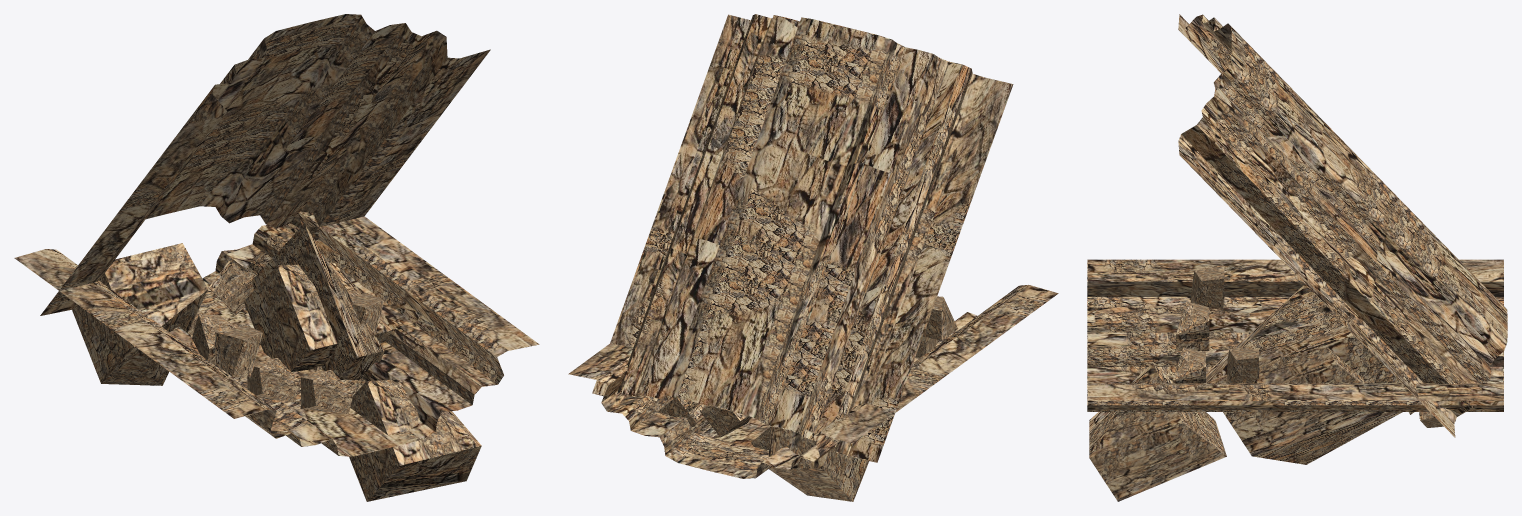
File: glbroca1.glb
The picture shows the model from 3 angles, left to right: view 1: azimuth 30°, elevation 25°; view 2: azimuth 150°, elevation 25°; view 3: azimuth 270°, elevation 25°; orthographic projection. The views are drawn at different scales.
Visible parts, largest first — view 1: Plane.001, Plane, Cube.010, Cube.011, Cube.009, Cube.012, Cube.004, Cube.006, Cube.003, Cube.002, Cube, Cube.005; view 2: Plane.001, Plane, Cube.010, Cube.004, Cube.002, Cube.007; view 3: Plane.001, Plane, Cube.012, Cube.011, Cube.009, Cube.003, Cube.004, Cube.005, Cube.006.
Part boxes in pixels (<box>): Plane.001: <box>40,14,490,315</box>; Plane: <box>14,211,539,456</box>; Cube.010: <box>72,243,208,385</box>; Cube.011: <box>349,379,481,501</box>; Cube.009: <box>244,263,391,371</box>; Cube.012: <box>252,223,384,379</box>; Cube.004: <box>215,325,262,377</box>; Cube.006: <box>301,370,353,413</box>; Cube.003: <box>247,357,299,402</box>; Cube.002: <box>208,260,254,315</box>; Cube: <box>192,314,235,364</box>; Cube.005: <box>351,293,384,334</box>; Plane.001: <box>592,14,1013,462</box>; Plane: <box>568,284,1058,478</box>; Cube.010: <box>768,426,869,501</box>; Cube.004: <box>923,296,957,340</box>; Cube.002: <box>701,405,751,437</box>; Cube.007: <box>658,397,704,426</box>; Plane.001: <box>1178,14,1507,437</box>; Plane: <box>1087,259,1503,411</box>; Cube.012: <box>1206,284,1402,464</box>; Cube.011: <box>1089,363,1226,501</box>; Cube.009: <box>1250,347,1367,442</box>; Cube.003: <box>1176,301,1209,350</box>; Cube.004: <box>1191,264,1224,308</box>; Cube.005: <box>1227,347,1258,383</box>; Cube.006: <box>1172,347,1205,383</box>.
Bounding box in the file's own units: 20.1 × 28.45 × 25.3.
Materials: 2 (2 with a texture image).
